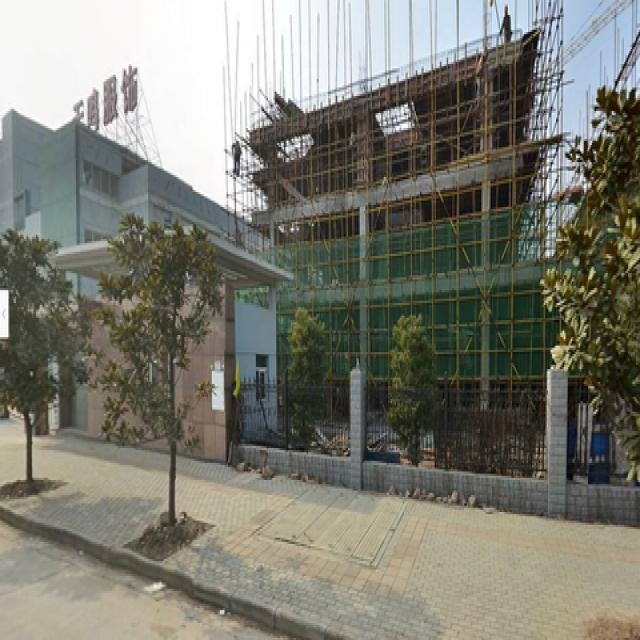magn: (100, 205, 213, 527)
